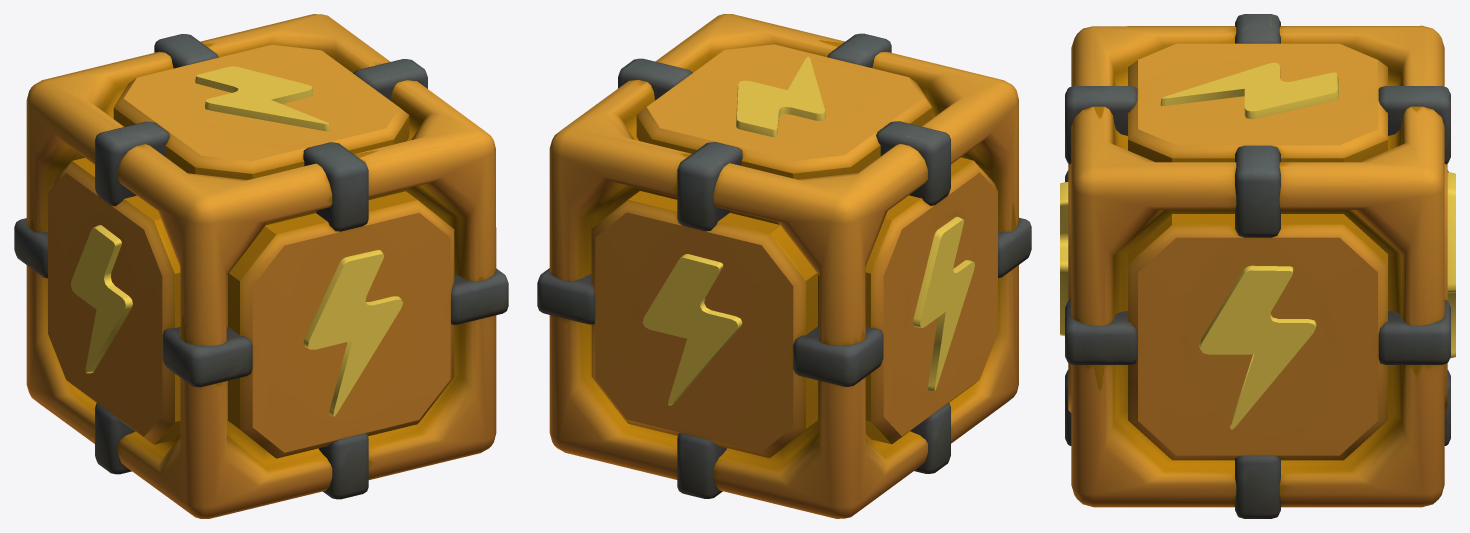
File: Speed_Powerup.fbx
The picture shows the model from 3 angles, left to right: view 1: azimuth 30°, elevation 25°; view 2: azimuth 150°, elevation 25°; view 3: azimuth 270°, elevation 25°; orthographic projection. The views are drawn at different scales.
Parts seen in each view (by area): view 1: Speed_Powerup; view 2: Speed_Powerup; view 3: Speed_Powerup.
Part boxes in pixels (<box>): Speed_Powerup: <box>14,14,508,518</box>; Speed_Powerup: <box>537,14,1031,518</box>; Speed_Powerup: <box>1060,14,1455,518</box>.
Size of the model in its own units: 0.1235 by 0.1235 by 0.1235.
